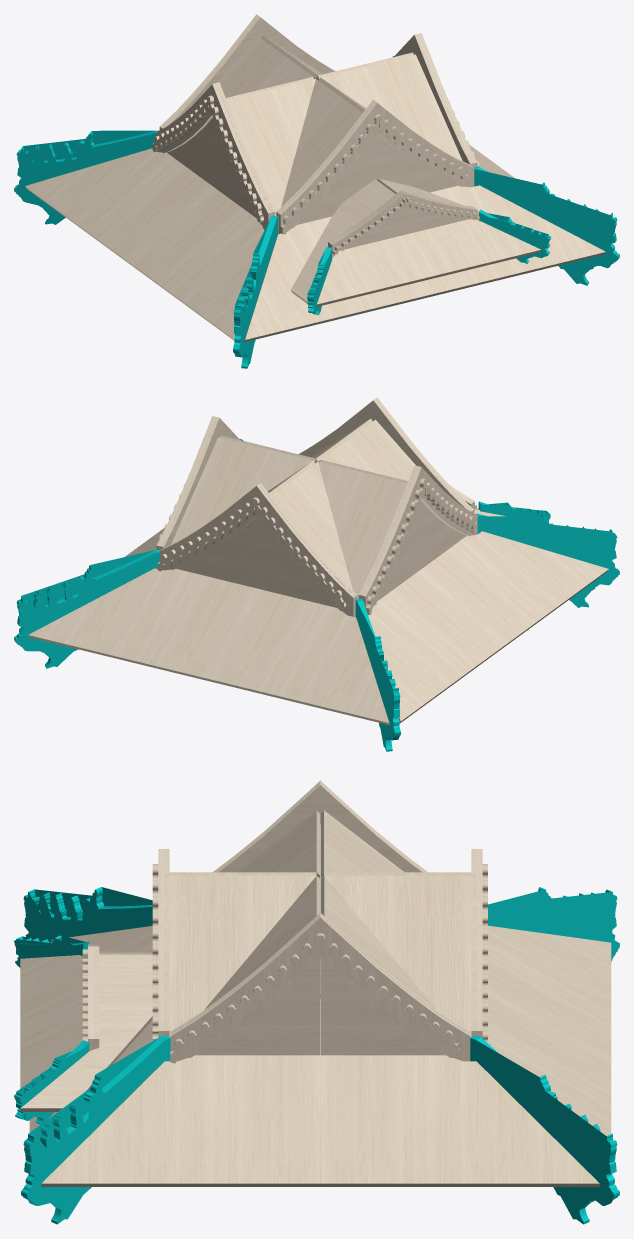
The picture shows the model from 3 angles, top to bottom: view 1: azimuth 30°, elevation 25°; view 2: azimuth 150°, elevation 25°; view 3: azimuth 270°, elevation 25°; orthographic projection. The views are drawn at different scales.
Parts seen in each view (by area): view 1: Mesh40 ___1191_2 ___1258_1 ___1305_1 Model, Mesh39 ___1191_1 ___1258_1 ___1305_1 Model, Mesh103 ___1191_8 ___1258_4 ___1305_1 Model, Mesh26 ___1194_2 ___1257_1 ___1305_1 Model, Mesh41 ___1194_3 ___1257_2 ___1305_1 Model, Mesh102 ___1191_7 ___1258_4 ___1305_1 Model, Mesh99 ___1259_4 ___1305_1 Model, Mesh96 ___1259_1 ___1305_1 Model, Mesh11 ___1261_1 ___1308_1 Model, Mesh18 ___1261_2 ___1308_2 Model, Mesh94 ___1194_7 ___1257_4 ___1305_1 Model, Mesh68 ___1194_6 ___1257_3 ___1305_1 Model (+27 smaller); view 2: Mesh71 ___1191_5 ___1258_3 ___1305_1 Model, Mesh72 ___1191_6 ___1258_3 ___1305_1 Model, Mesh39 ___1191_1 ___1258_1 ___1305_1 Model, Mesh40 ___1191_2 ___1258_1 ___1305_1 Model, Mesh25 ___1194_1 ___1257_1 ___1305_1 Model, Mesh42 ___1194_4 ___1257_2 ___1305_1 Model, Mesh97 ___1259_2 ___1305_1 Model, Mesh98 ___1259_3 ___1305_1 Model, Mesh68 ___1194_6 ___1257_3 ___1305_1 Model, Mesh27 __2_dwg_6_1 ___1175_1 ___1255_1 ___1305_1 Model, Mesh30 __2_dwg_6_2 ___1175_1 ___1255_1 ___1305_1 Model, Mesh94 ___1194_7 ___1257_4 ___1305_1 Model (+16 smaller); view 3: Mesh45 ___1191_3 ___1258_2 ___1305_1 Model, Mesh46 ___1191_4 ___1258_2 ___1305_1 Model, Mesh67 ___1194_5 ___1257_3 ___1305_1 Model, Mesh95 ___1194_8 ___1257_4 ___1305_1 Model, Mesh71 ___1191_5 ___1258_3 ___1305_1 Model, Mesh99 ___1259_4 ___1305_1 Model, Mesh72 ___1191_6 ___1258_3 ___1305_1 Model, Mesh97 ___1259_2 ___1305_1 Model, Mesh12 ___1260_1 ___1309_1 Model, Mesh60 __2_dwg_6_6 ___1175_3 ___1255_3 ___1305_1 Model, Mesh57 __2_dwg_6_5 ___1175_3 ___1255_3 ___1305_1 Model, Mesh98 ___1259_3 ___1305_1 Model (+25 smaller).
Part boxes in pixels (x1=…): Mesh40 ___1191_2 ___1258_1 ___1305_1 Model: x1=25, y1=148, x2=213, y2=264; Mesh39 ___1191_1 ___1258_1 ___1305_1 Model: x1=129, y1=187, x2=264, y2=340; Mesh103 ___1191_8 ___1258_4 ___1305_1 Model: x1=244, y1=216, x2=425, y2=342; Mesh26 ___1194_2 ___1257_1 ___1305_1 Model: x1=227, y1=79, x2=315, y2=215; Mesh41 ___1194_3 ___1257_2 ___1305_1 Model: x1=321, y1=54, x2=462, y2=160; Mesh102 ___1191_7 ___1258_4 ___1305_1 Model: x1=418, y1=185, x2=605, y2=297; Mesh99 ___1259_4 ___1305_1 Model: x1=473, y1=166, x2=619, y2=285; Mesh96 ___1259_1 ___1305_1 Model: x1=14, y1=130, x2=158, y2=224; Mesh11 ___1261_1 ___1308_1 Model: x1=404, y1=219, x2=541, y2=279; Mesh18 ___1261_2 ___1308_2 Model: x1=316, y1=235, x2=428, y2=306; Mesh94 ___1194_7 ___1257_4 ___1305_1 Model: x1=281, y1=79, x2=362, y2=206; Mesh68 ___1194_6 ___1257_3 ___1305_1 Model: x1=218, y1=36, x2=314, y2=97; Mesh71 ___1191_5 ___1258_3 ___1305_1 Model: x1=209, y1=589, x2=389, y2=725; Mesh72 ___1191_6 ___1258_3 ___1305_1 Model: x1=28, y1=568, x2=257, y2=681; Mesh39 ___1191_1 ___1258_1 ___1305_1 Model: x1=420, y1=531, x2=608, y2=647; Mesh40 ___1191_2 ___1258_1 ___1305_1 Model: x1=368, y1=570, x2=504, y2=723; Mesh25 ___1194_1 ___1257_1 ___1305_1 Model: x1=318, y1=462, x2=406, y2=598; Mesh42 ___1194_4 ___1257_2 ___1305_1 Model: x1=171, y1=437, x2=312, y2=543; Mesh97 ___1259_2 ___1305_1 Model: x1=14, y1=549, x2=160, y2=668; Mesh98 ___1259_3 ___1305_1 Model: x1=476, y1=513, x2=619, y2=607; Mesh68 ___1194_6 ___1257_3 ___1305_1 Model: x1=271, y1=462, x2=352, y2=589; Mesh27 __2_dwg_6_1 ___1175_1 ___1255_1 ___1305_1 Model: x1=258, y1=482, x2=357, y2=607; Mesh30 __2_dwg_6_2 ___1175_1 ___1255_1 ___1305_1 Model: x1=162, y1=511, x2=258, y2=588; Mesh94 ___1194_7 ___1257_4 ___1305_1 Model: x1=319, y1=419, x2=415, y2=480; Mesh45 ___1191_3 ___1258_2 ___1305_1 Model: x1=320, y1=1055, x2=599, y2=1186; Mesh46 ___1191_4 ___1258_2 ___1305_1 Model: x1=41, y1=1055, x2=320, y2=1186; Mesh67 ___1194_5 ___1257_3 ___1305_1 Model: x1=324, y1=875, x2=471, y2=1037; Mesh95 ___1194_8 ___1257_4 ___1305_1 Model: x1=169, y1=875, x2=316, y2=1037; Mesh71 ___1191_5 ___1258_3 ___1305_1 Model: x1=488, y1=925, x2=611, y2=1060; Mesh99 ___1259_4 ___1305_1 Model: x1=21, y1=1035, x2=170, y2=1224; Mesh72 ___1191_6 ___1258_3 ___1305_1 Model: x1=488, y1=992, x2=611, y2=1135; Mesh97 ___1259_2 ___1305_1 Model: x1=470, y1=1035, x2=619, y2=1224; Mesh12 ___1260_1 ___1309_1 Model: x1=20, y1=955, x2=152, y2=1111; Mesh60 __2_dwg_6_6 ___1175_3 ___1255_3 ___1305_1 Model: x1=170, y1=913, x2=320, y2=1055; Mesh57 __2_dwg_6_5 ___1175_3 ___1255_3 ___1305_1 Model: x1=320, y1=913, x2=470, y2=1055; Mesh98 ___1259_3 ___1305_1 Model: x1=23, y1=887, x2=152, y2=939.
Size of the model in its own units: 214 by 103 by 217.
Materials: 3 (1 with a texture image).
